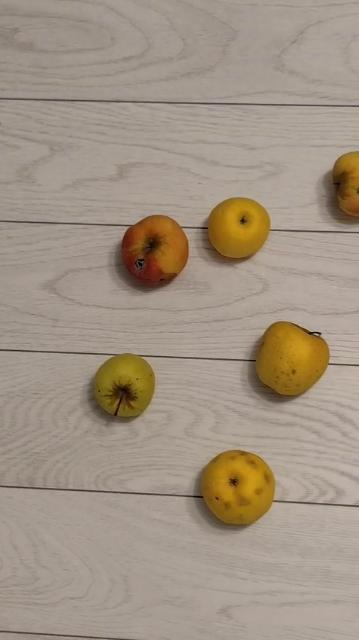apple_green: (256, 320, 329, 394), (202, 451, 273, 524), (206, 196, 271, 258), (92, 353, 153, 419), (332, 151, 358, 216)
apple_red: (120, 213, 186, 290)
